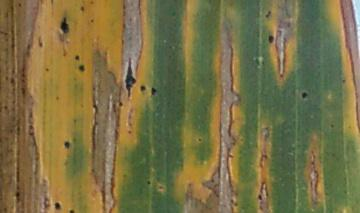tarspot: (62, 139, 72, 151), (263, 7, 272, 19), (267, 32, 275, 45), (53, 201, 63, 211), (138, 84, 148, 93), (77, 64, 86, 73), (151, 86, 158, 96), (78, 5, 86, 13), (301, 91, 308, 100), (74, 54, 81, 62), (197, 136, 203, 144), (72, 118, 78, 125), (118, 100, 123, 108), (68, 208, 76, 213), (89, 19, 95, 25), (342, 77, 347, 84), (146, 180, 151, 187), (330, 123, 335, 129), (158, 185, 163, 190), (55, 95, 59, 101), (45, 68, 49, 73), (128, 130, 132, 135)
